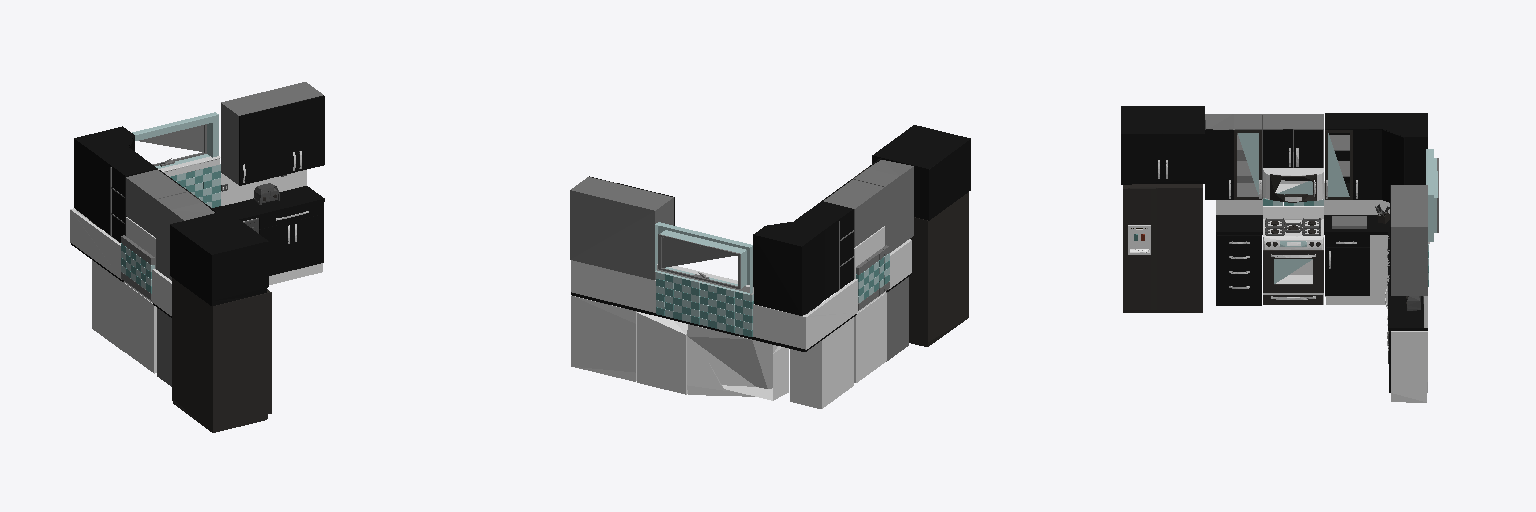
The model's file is kagu_kitchen.obj.
3 views of the same model, side by side, from view 1: azimuth 30°, elevation 25°; view 2: azimuth 150°, elevation 25°; view 3: azimuth 270°, elevation 25° (orthographic).
Parts seen in each view (by area): view 1: kagu:group13pasted__polySurface78, kagu:group13pasted__woodpasted__polySurface46, kagu:group14pasted__woodpasted__polySurface10, kagu:group14pasted__geranetpasted__polySurface91, kagu:group14pasted__woodpasted__polySurface2, kagu:group15pasted__polySurface59, kagu:group15pasted__woodpasted__polySurface19, kagu:group15pasted__woodpasted__polySurface14, kagu:group14pasted__woodpasted__polySurface3, kagu:group14pasted__woodpasted__polySurface6, kagu:group15pasted__woodpasted__polySurface54, kagu:group14pasted__woodpasted__polySurface5 (+9 smaller); view 2: kagu:group14pasted__woodpasted__polySurface34, kagu:group14pasted__woodpasted__polySurface10, kagu:group14pasted__woodpasted__polySurface2, kagu:group13pasted__polySurface78, kagu:group14pasted__geranetpasted__polySurface91, kagu:group13pasted__woodpasted__polySurface46, kagu:group15pasted__woodpasted__polySurface19, kagu:group14pasted__polySurface76, kagu:group15pasted__woodpasted__polySurface54, kagu:group15pasted__polySurface59, kagu:group15pasted__woodpasted__polySurface14, kagu:group14pasted__polySurface95 (+5 smaller); view 3: kagu:group13pasted__polySurface81, kagu:group14pasted__woodpasted__polySurface2, kagu:group13pasted__polySurface82, kagu:group14pasted__woodpasted__polySurface10, kagu:group14pasted__polySurface165pasted__geranet, kagu:group14pasted__woodpasted__polySurface34, kagu:group13pasted__woodpasted__polySurface46, kagu:group15pasted__woodpasted__polySurface20, kagu:group15pasted__polySurface12pasted__wood, kagu:group15pasted__woodpasted__polySurface203, kagu:group13pasted__woodpasted__polySurface45, kagu:group13pasted__polySurface47pasted__wood (+20 smaller).
Part boxes in pixels (x1,y1,x2,y2): kagu:group13pasted__polySurface78: (172,278,267,432); kagu:group13pasted__woodpasted__polySurface46: (170,211,266,305); kagu:group14pasted__woodpasted__polySurface10: (74,126,156,242); kagu:group14pasted__geranetpasted__polySurface91: (70,170,306,315); kagu:group14pasted__woodpasted__polySurface2: (221,82,322,184); kagu:group15pasted__polySurface59: (124,283,156,373); kagu:group15pasted__woodpasted__polySurface19: (92,260,123,351); kagu:group15pasted__woodpasted__polySurface14: (126,170,187,237); kagu:group14pasted__woodpasted__polySurface3: (239,109,267,185); kagu:group14pasted__woodpasted__polySurface6: (267,102,296,178); kagu:group15pasted__woodpasted__polySurface54: (156,192,214,280); kagu:group14pasted__woodpasted__polySurface5: (296,95,324,171); kagu:group14pasted__woodpasted__polySurface34: (571,295,788,400); kagu:group14pasted__woodpasted__polySurface10: (753,201,853,315); kagu:group14pasted__woodpasted__polySurface2: (570,177,673,279); kagu:group13pasted__polySurface78: (909,192,968,346); kagu:group14pasted__geranetpasted__polySurface91: (571,239,911,349); kagu:group13pasted__woodpasted__polySurface46: (874,125,970,220); kagu:group15pasted__woodpasted__polySurface19: (790,317,853,408); kagu:group14pasted__polySurface76: (637,312,687,394); kagu:group15pasted__woodpasted__polySurface54: (854,160,913,252); kagu:group15pasted__polySurface59: (829,286,886,382); kagu:group15pasted__woodpasted__polySurface14: (824,179,884,247); kagu:group14pasted__polySurface95: (655,222,752,294); kagu:group13pasted__polySurface81: (1157,187,1202,309); kagu:group14pasted__woodpasted__polySurface2: (1391,185,1427,295); kagu:group13pasted__polySurface82: (1123,187,1156,309); kagu:group14pasted__woodpasted__polySurface10: (1325,113,1427,195); kagu:group14pasted__polySurface165pasted__geranet: (1216,215,1427,330); kagu:group14pasted__woodpasted__polySurface34: (1391,331,1427,402); kagu:group13pasted__woodpasted__polySurface46: (1121,106,1204,184); kagu:group15pasted__woodpasted__polySurface20: (1325,247,1369,295); kagu:group15pasted__polySurface12pasted__wood: (1205,129,1233,199); kagu:group15pasted__woodpasted__polySurface203: (1353,130,1381,199); kagu:group13pasted__woodpasted__polySurface45: (1163,133,1204,180); kagu:group13pasted__polySurface47pasted__wood: (1121,133,1162,180).
Bounding box in the file's own units: 2.75 × 1.91 × 3.06.